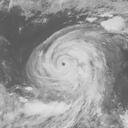cyclone: (24, 23, 119, 103)
